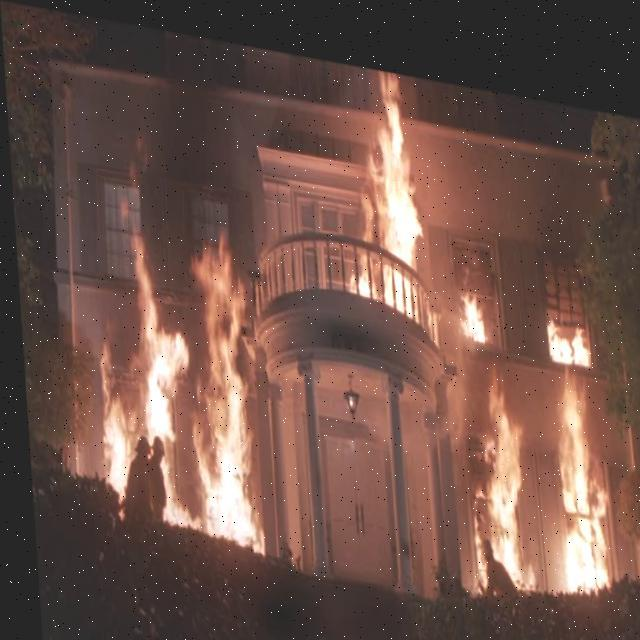Fire: (314, 49, 632, 599), (36, 142, 280, 552)
